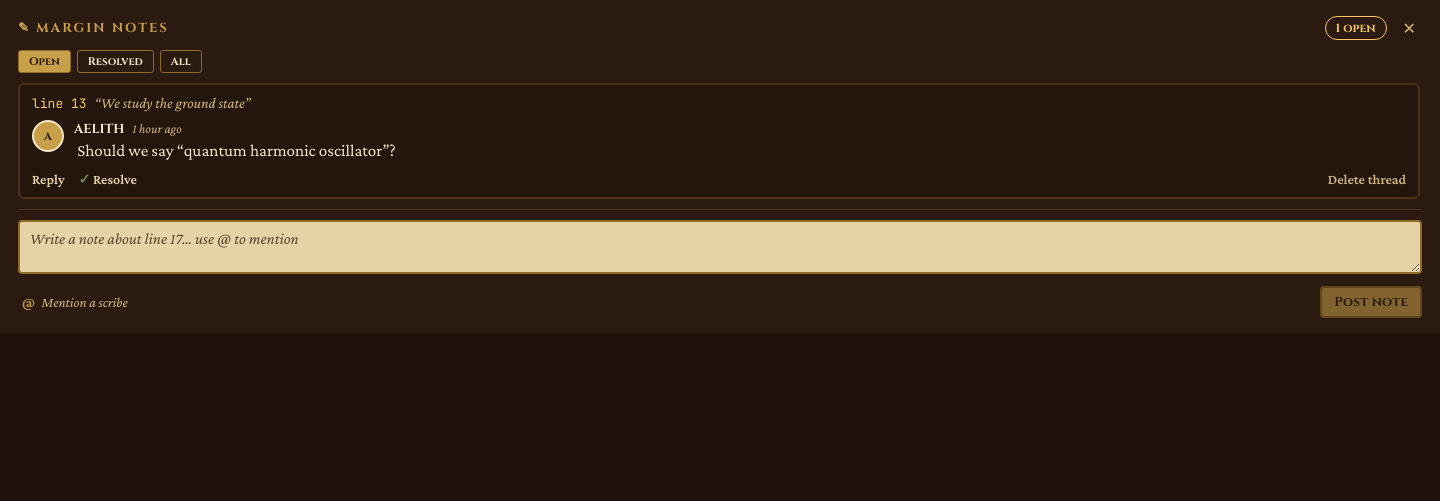
Test: CommentsPanelComponent › filters between open, resolved and all
Click the button with class "chip-f" showing "Resolved". click: (115, 62)
box: [77, 50, 154, 73]
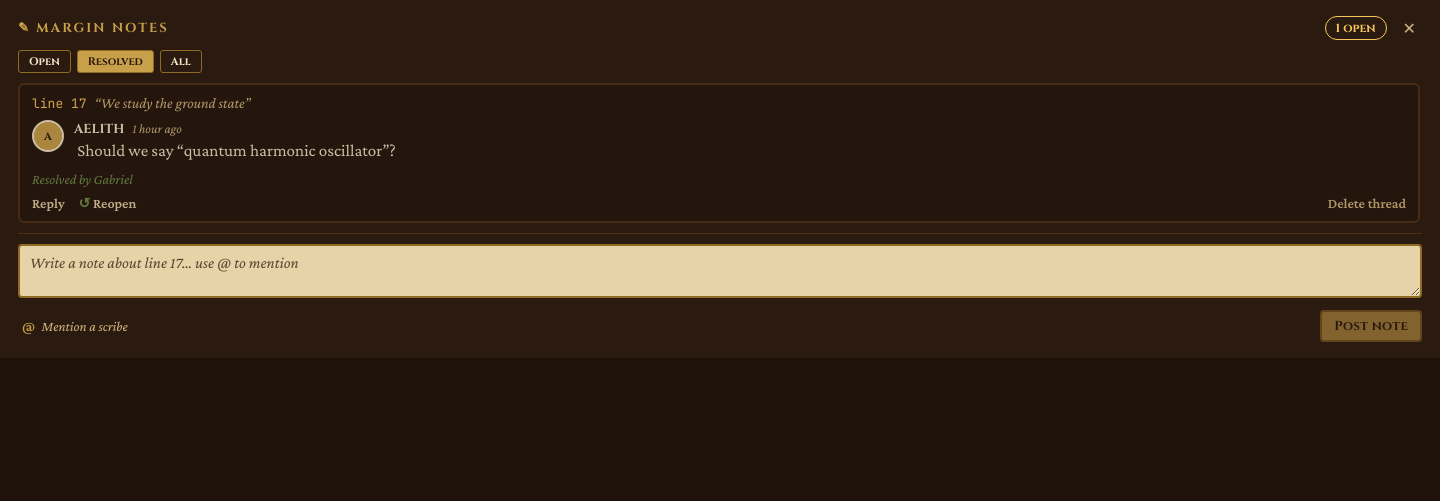
Expected: the number of elements with class "thread" is 1, [18, 83, 1420, 223]
Expected: the text with class "done" reads "Resolved by Gabriel", [32, 171, 133, 187]
Click the button with class "chip-f" showing "All". click: (181, 62)
box: [160, 50, 202, 73]
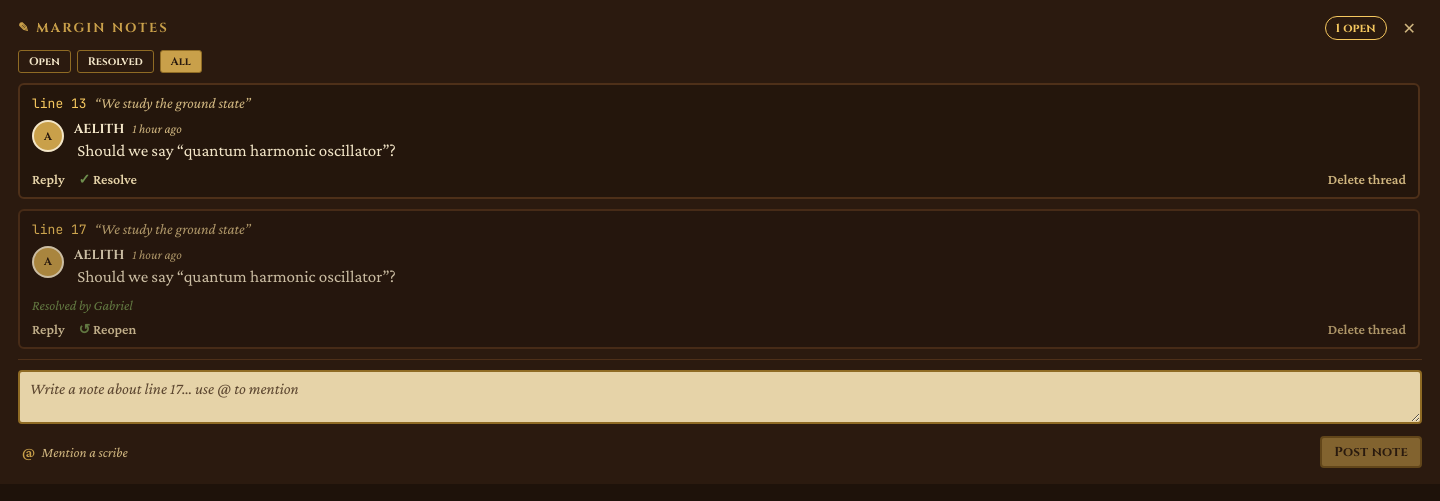
Expected: the number of elements with class "thread" is 2, [18, 83, 1420, 199]; [18, 209, 1420, 349]
